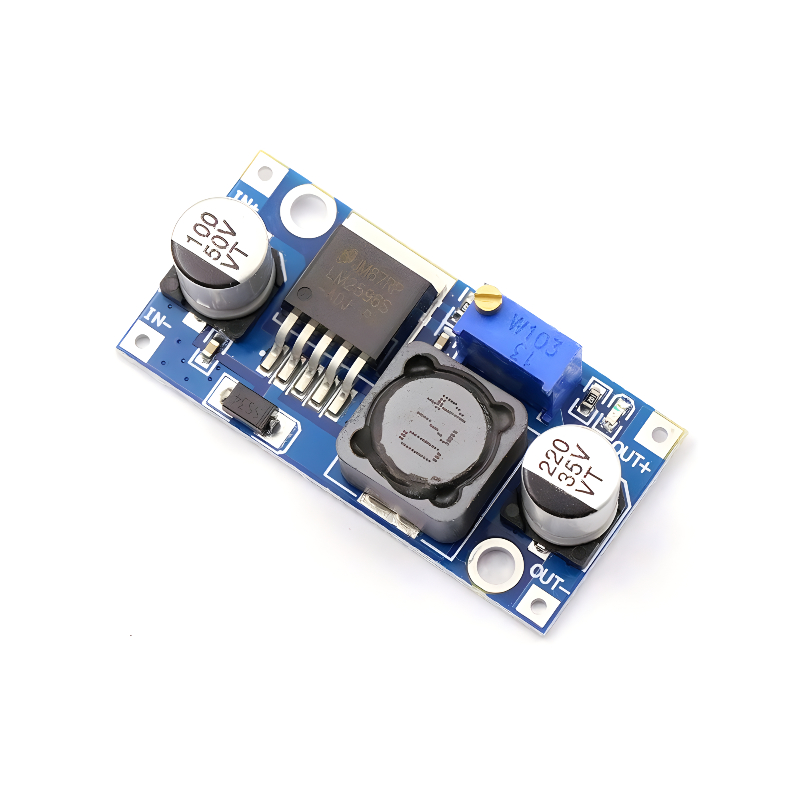Induktor: (332, 339, 528, 542)
